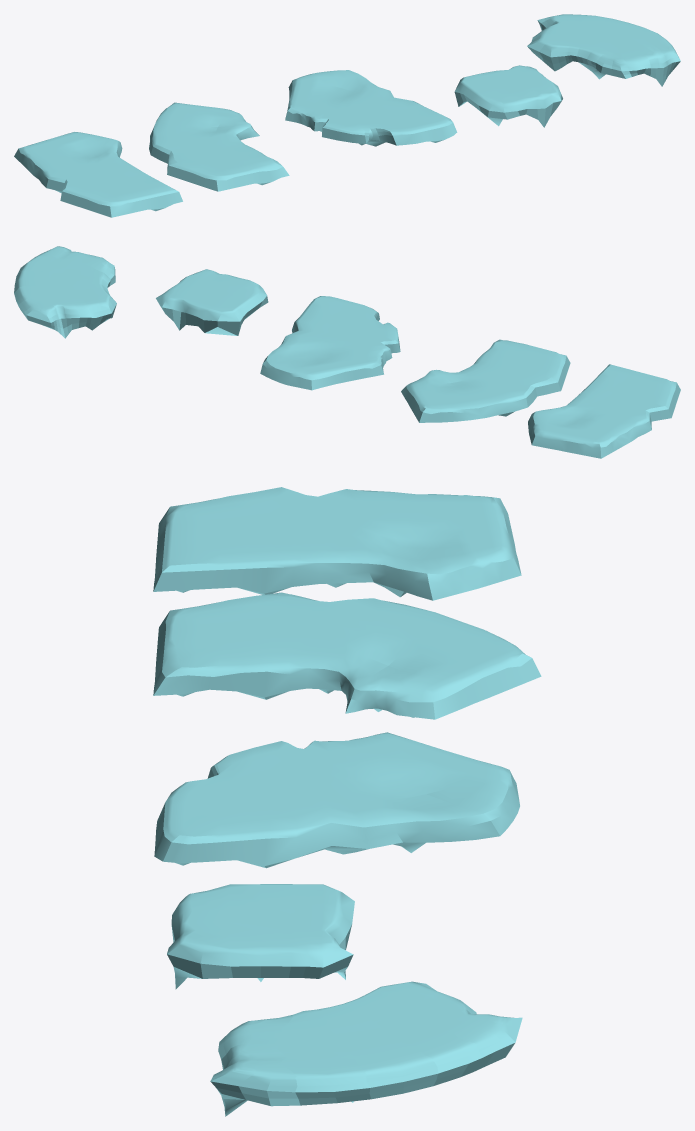
The model's file is ice floor.fbx.
3 views of the same model, one above another, from view 1: azimuth 30°, elevation 25°; view 2: azimuth 150°, elevation 25°; view 3: azimuth 270°, elevation 25° (orthographic). The views are drawn at different scales.
Parts seen in each view (by area): view 1: Piso_de_hielo3, Piso_de_hielo1, Piso_de_hielo2, Piso_de_hielo4, Piso_de_hielo5; view 2: Piso_de_hielo3, Piso_de_hielo2, Piso_de_hielo1, Piso_de_hielo4, Piso_de_hielo5; view 3: Piso_de_hielo3, Piso_de_hielo2, Piso_de_hielo1, Piso_de_hielo4, Piso_de_hielo5.
Part boxes in pixels (x1,y1,x2,y2): Piso_de_hielo3: (285,70,457,146); Piso_de_hielo1: (14,132,182,217); Piso_de_hielo2: (149,102,289,191); Piso_de_hielo4: (527,14,680,86); Piso_de_hielo5: (454,65,562,127); Piso_de_hielo3: (260,296,400,390); Piso_de_hielo2: (401,339,570,422); Piso_de_hielo1: (528,364,680,458); Piso_de_hielo4: (14,246,116,338); Piso_de_hielo5: (156,269,268,335); Piso_de_hielo3: (154,732,519,868); Piso_de_hielo2: (153,592,541,719); Piso_de_hielo1: (153,487,521,600); Piso_de_hielo4: (210,981,522,1116); Piso_de_hielo5: (167,884,354,989).
Size of the model in its own units: 77.94 by 4.73 by 21.34.
